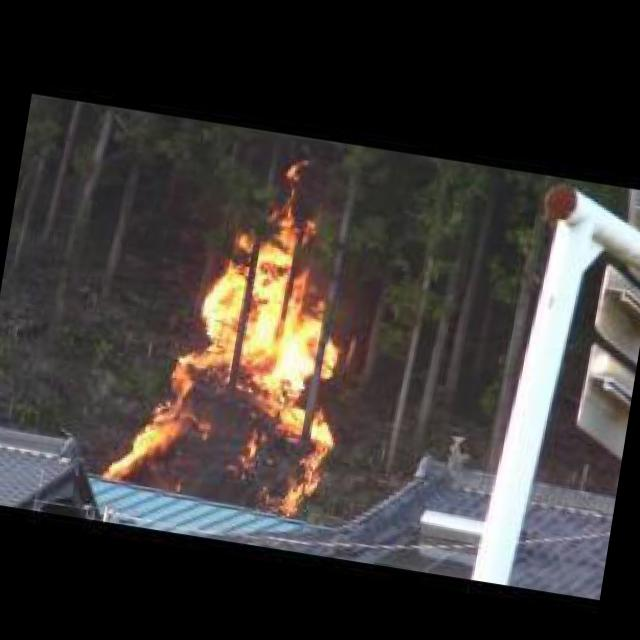fire: (111, 134, 379, 520)
